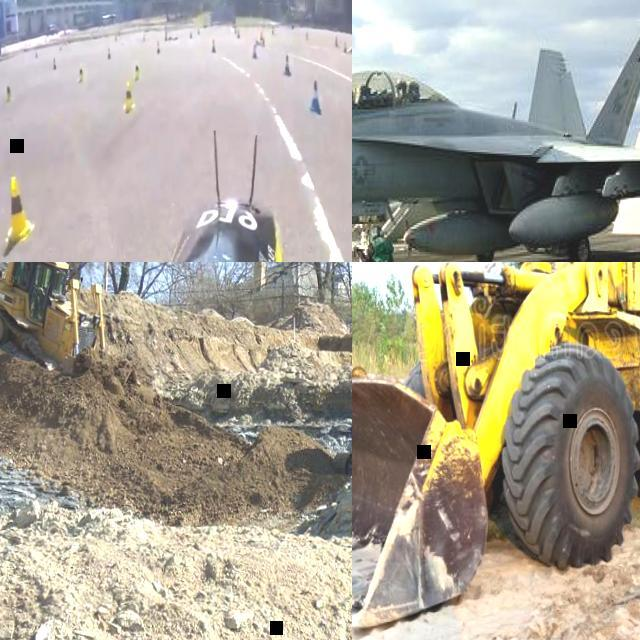helmet: (371, 224, 382, 235)
